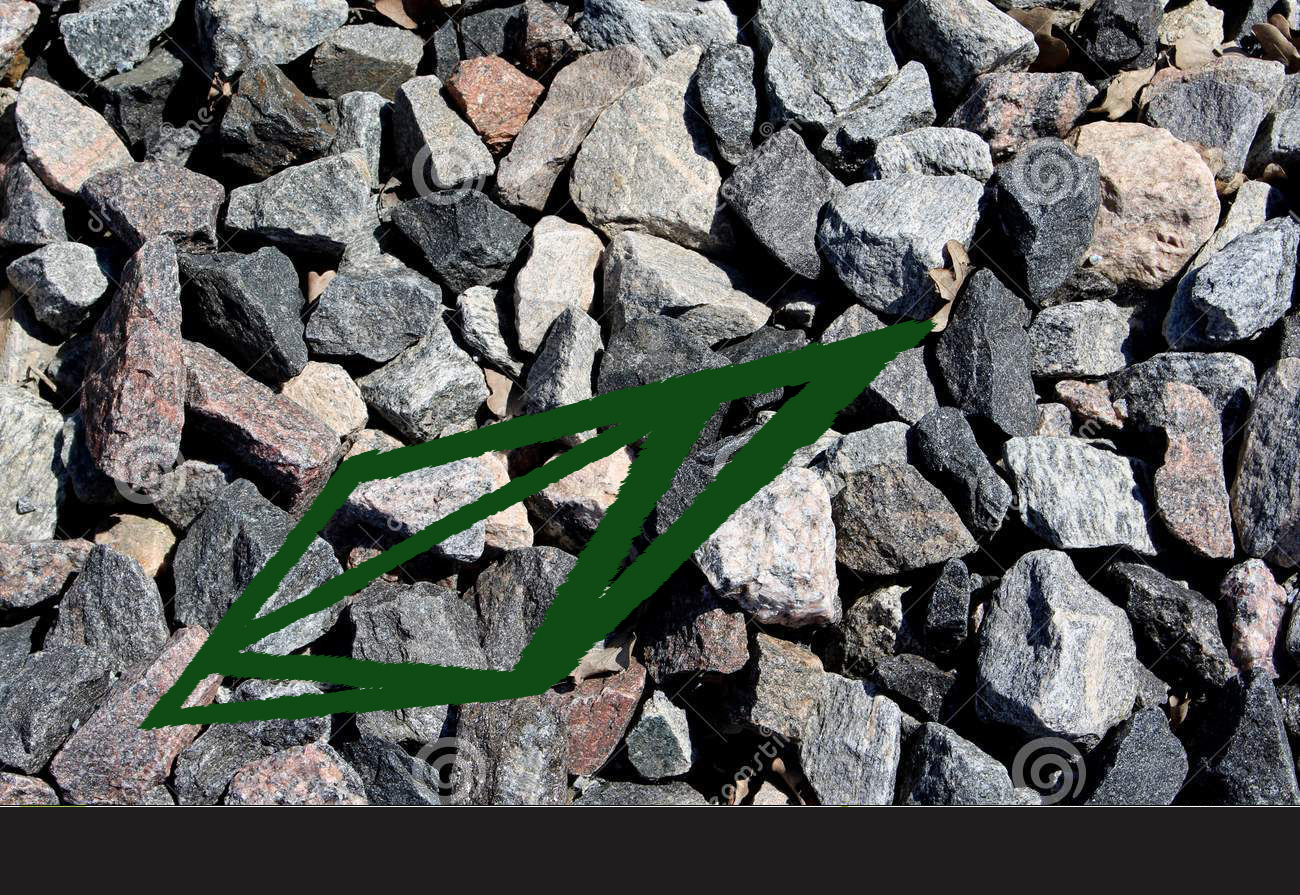marker: (134, 316, 959, 734)
